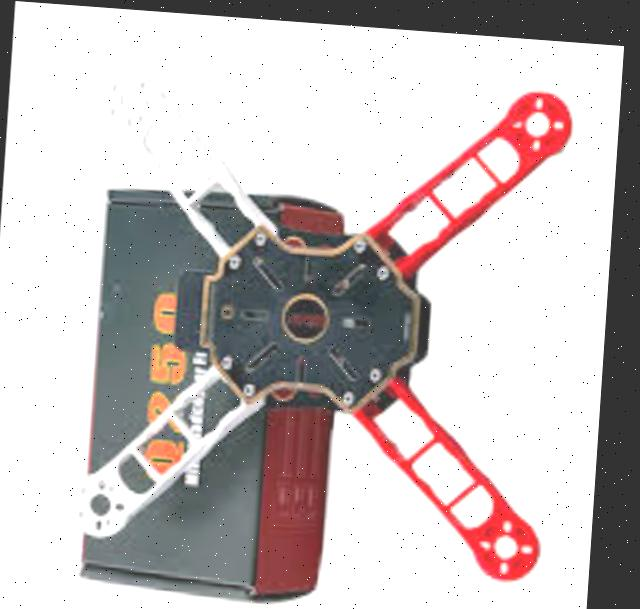drone: (64, 46, 603, 572)
